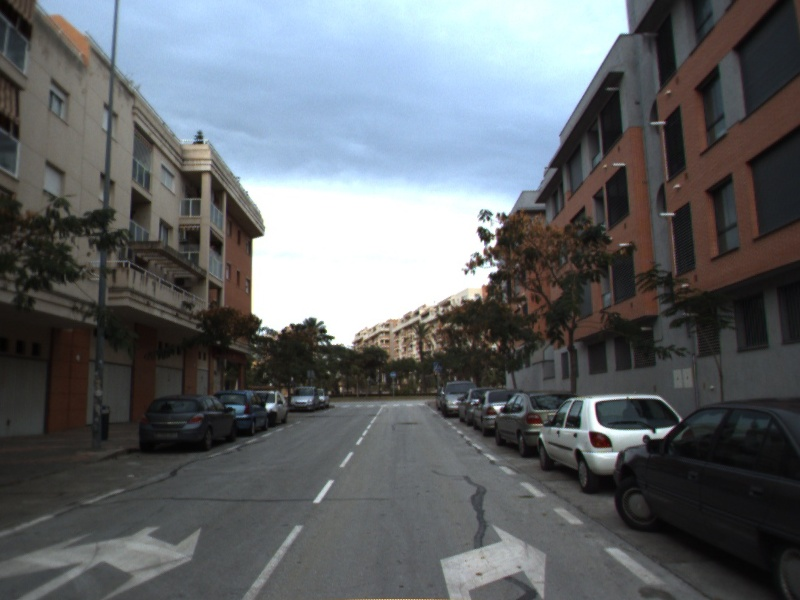RIGHT: (437, 520, 550, 600)
